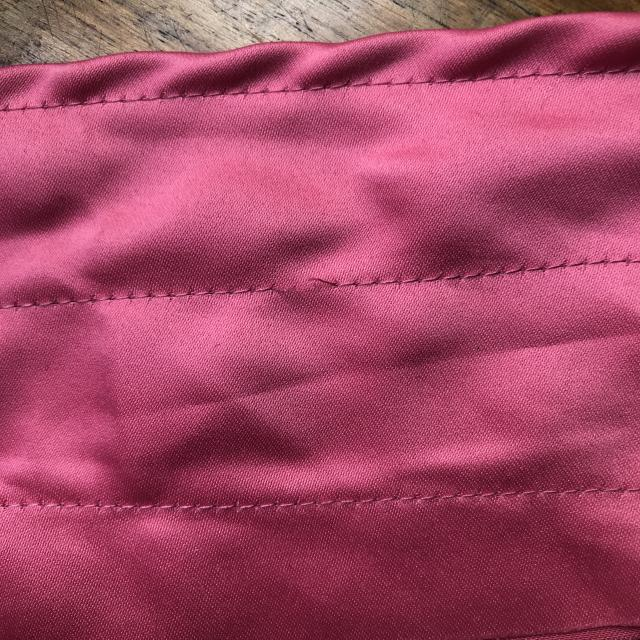broken: (248, 252, 355, 310)
